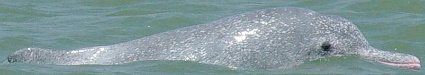fin: (5, 2, 423, 75)
